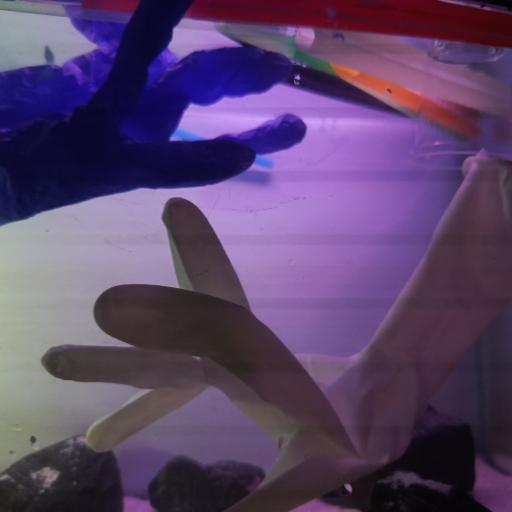glove: (36, 152, 512, 512), (4, 0, 306, 225)
plastic_cup: (403, 41, 512, 174)
plastic_straw: (79, 0, 512, 50), (294, 31, 512, 117), (331, 60, 478, 144), (0, 0, 292, 40), (290, 66, 404, 116), (222, 21, 329, 74)
